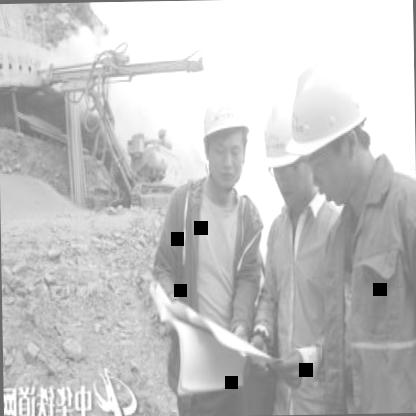helmet: (288, 41, 370, 204), (194, 74, 258, 195), (258, 86, 312, 218)
